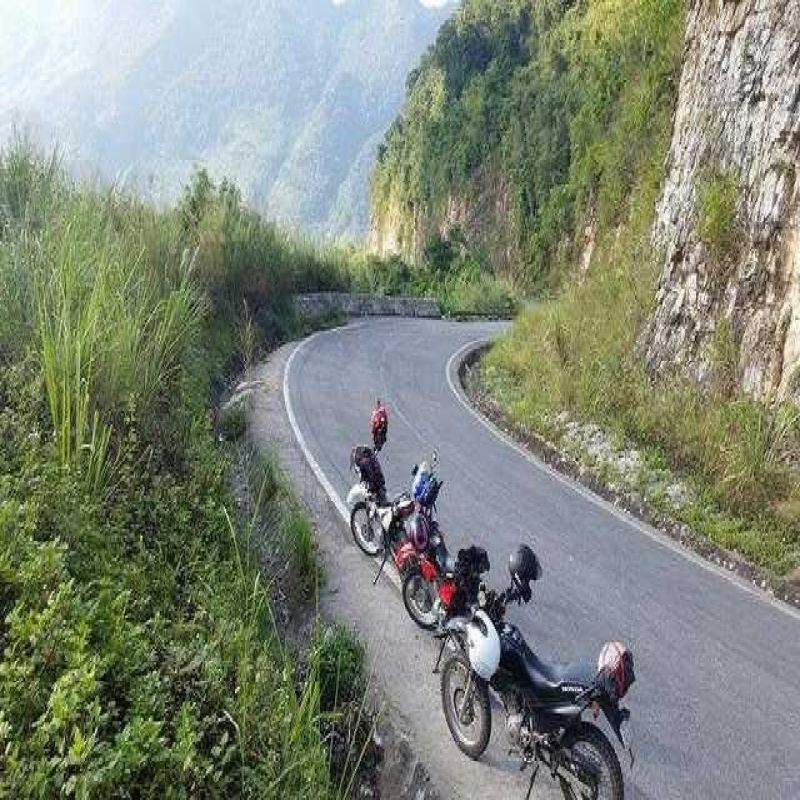bike: (440, 564, 630, 800), (394, 467, 470, 625), (344, 396, 412, 572)
